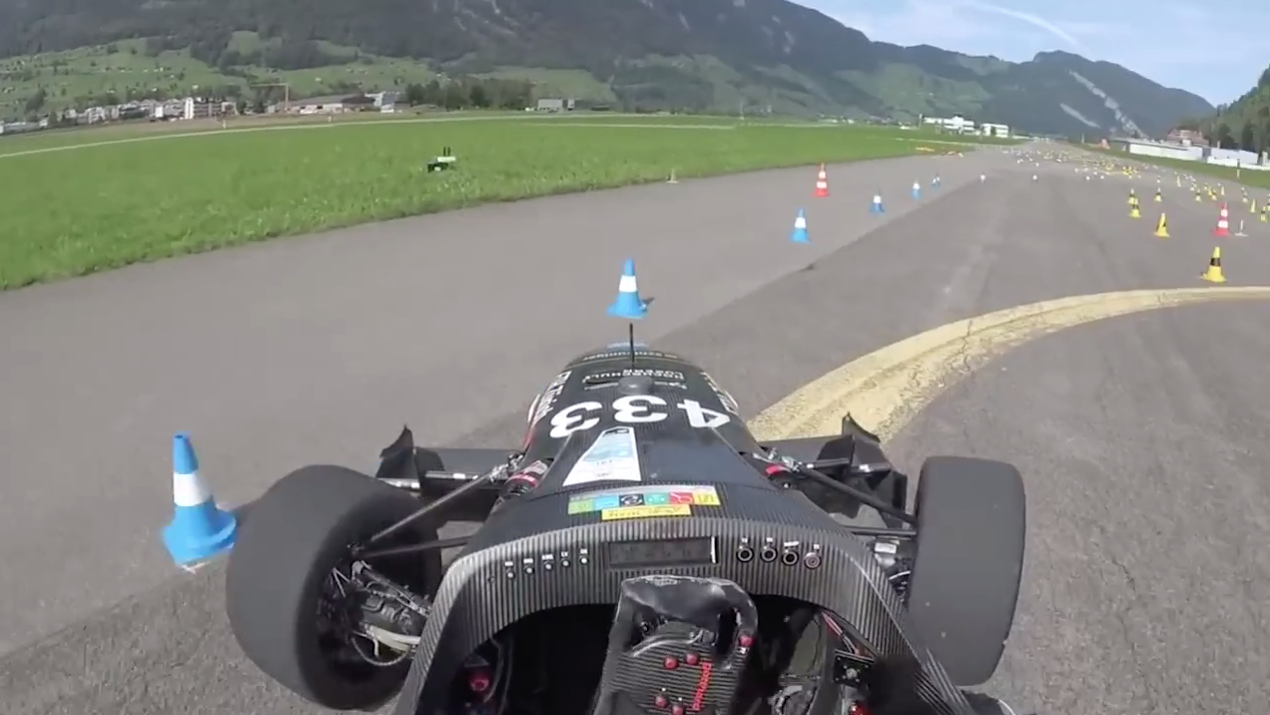lcone: (151, 425, 242, 571), (599, 257, 652, 323), (783, 207, 819, 249)
rcone: (1198, 243, 1228, 288)
